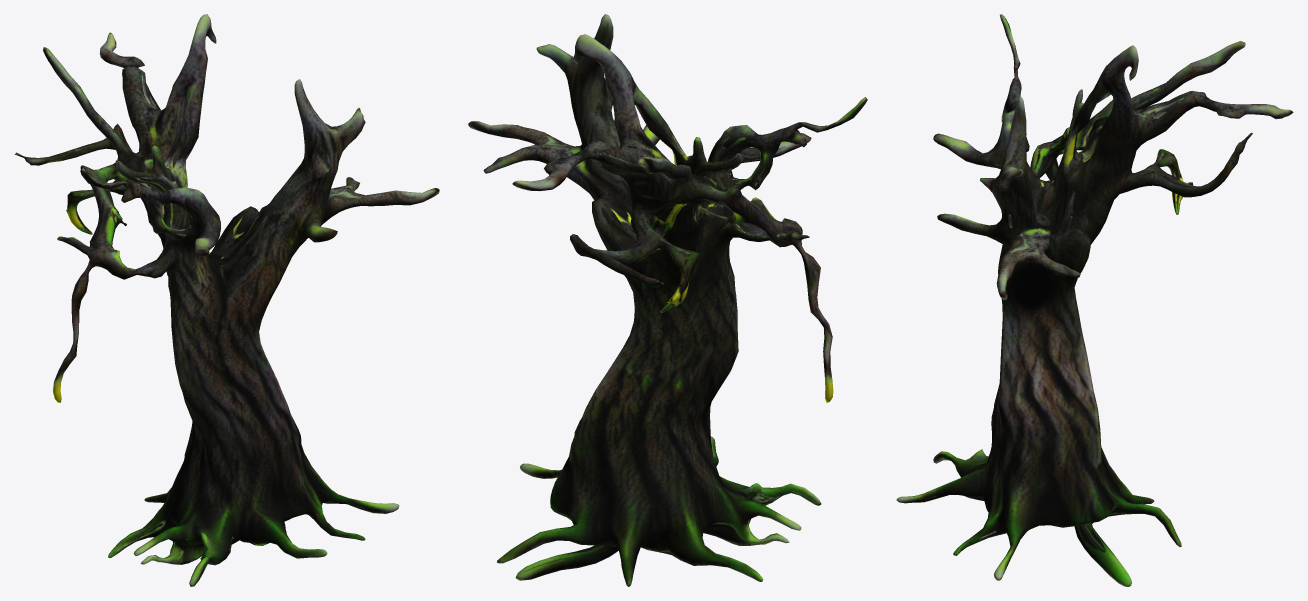
The model's file is 4f379ccb4f52_terrifying_tree_hal.obj.
The picture shows the model from 3 angles, left to right: view 1: azimuth 30°, elevation 25°; view 2: azimuth 150°, elevation 25°; view 3: azimuth 270°, elevation 25°; orthographic projection. The views are drawn at different scales.
Parts seen in each view (by area): view 1: mesh; view 2: mesh; view 3: mesh.
Boxes of the visible parts, <box> form: mesh: <box>14,14,439,586</box>; mesh: <box>468,14,867,586</box>; mesh: <box>896,14,1293,586</box>.
Size of the model in its own units: 0.7305 by 0.9929 by 0.6993.
1 material, 1 textured.
